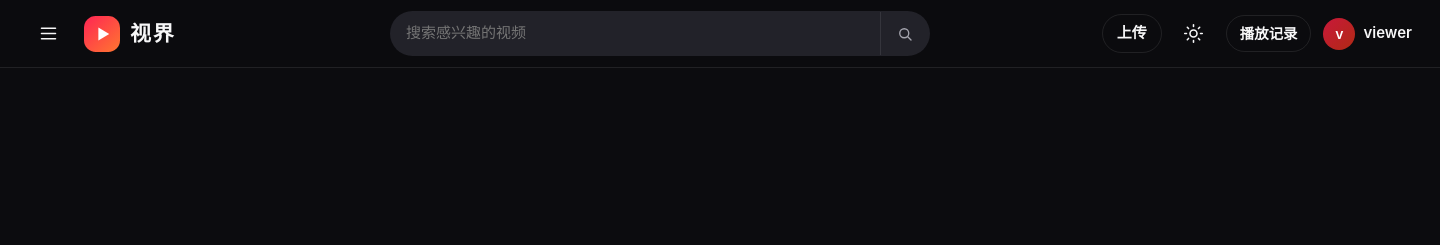
Test case: AppHeader watch history dropdown › reuses recent watch history for quick hover returns
Hover over the element with class "app-header__history" at (1269, 38), box [1226,15,1312,62]
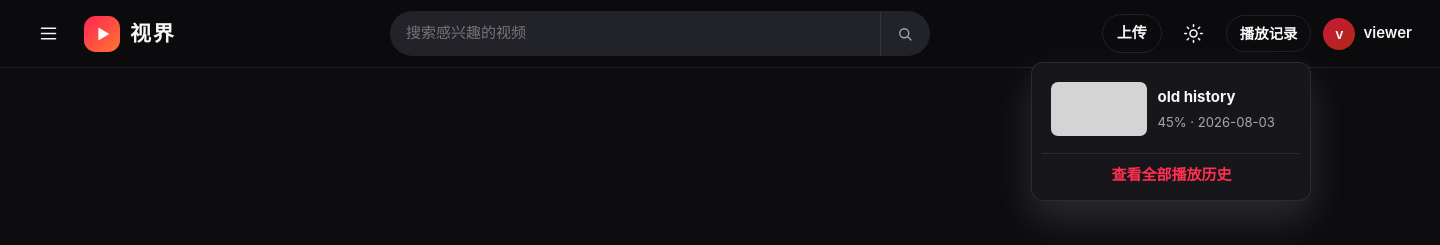
Check: the text "old history" is shown, box [1157,87,1235,106]
Move the pointer off the element with class "app-header__history", box [1226,15,1312,62]
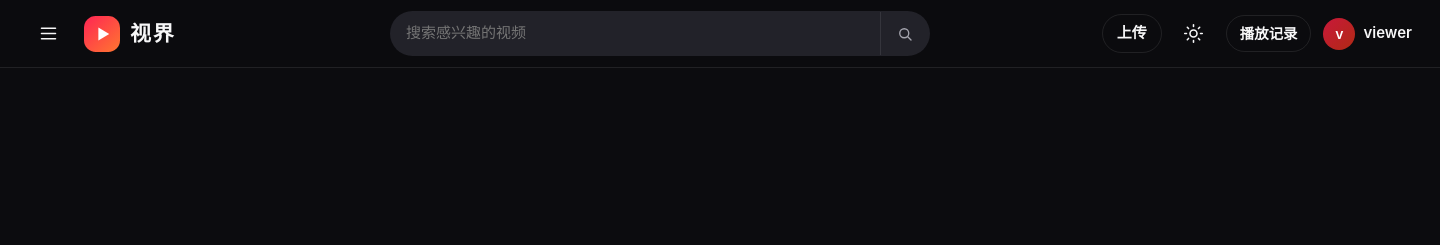
Hover over the element with class "app-header__history" at (1269, 38), box [1226,15,1312,62]
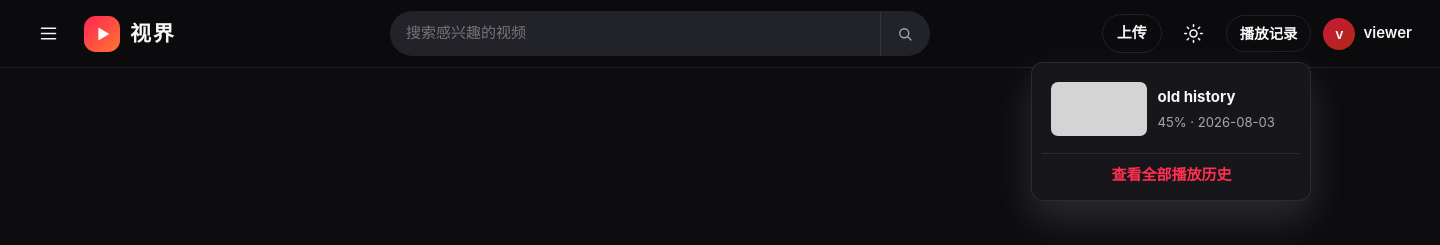
Check: the text "old history" is shown, box [1157,87,1235,106]
